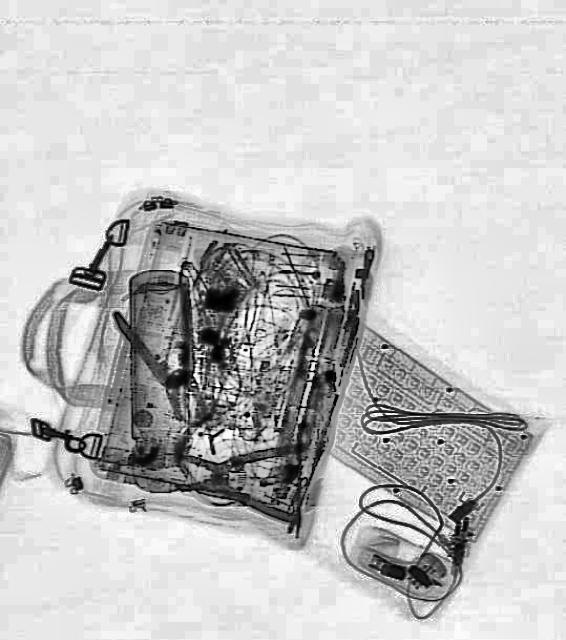Pliers: (106, 275, 235, 433), (170, 432, 314, 522)
